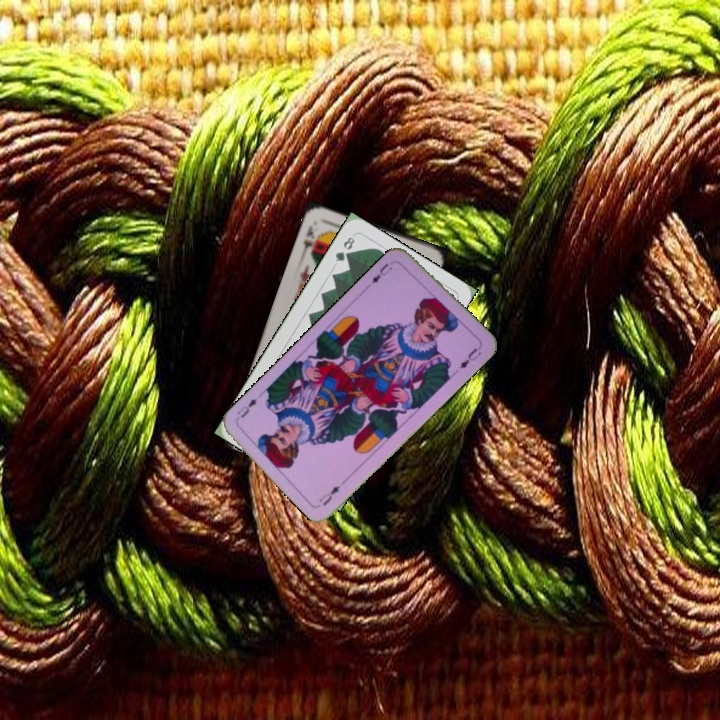EU: (315, 481, 343, 509), (367, 259, 395, 286)
G8: (331, 232, 357, 264)
SK: (299, 222, 321, 258)
